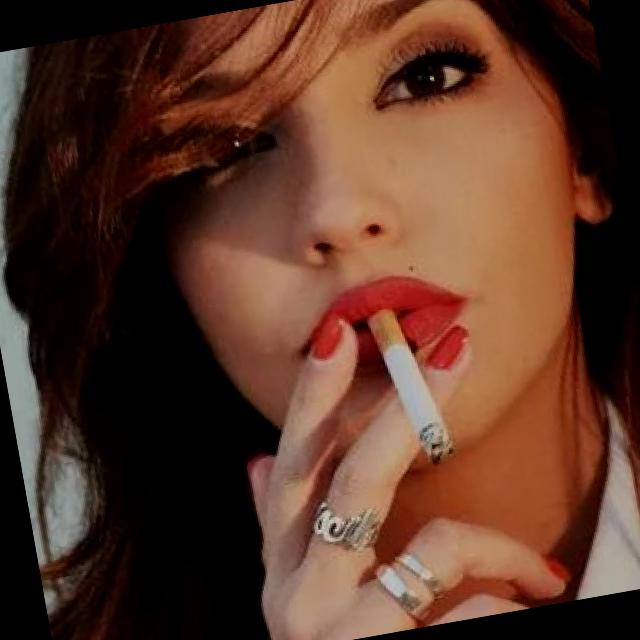smoke: (360, 292, 461, 474)
